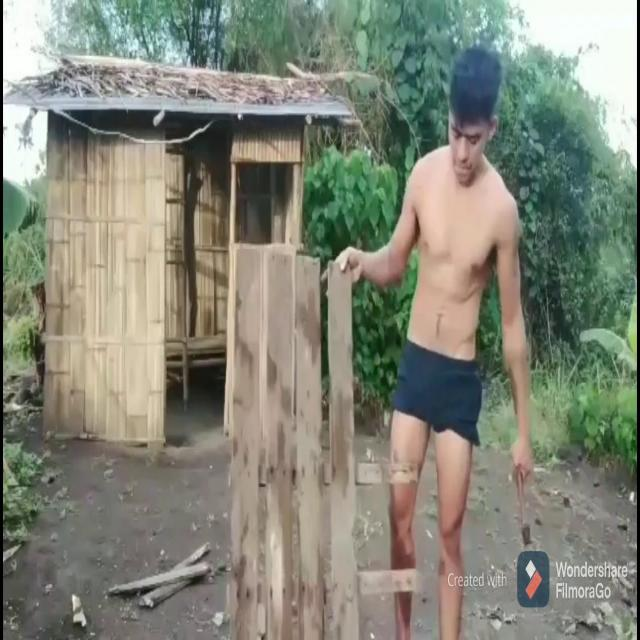hammer: (517, 470, 531, 546)
